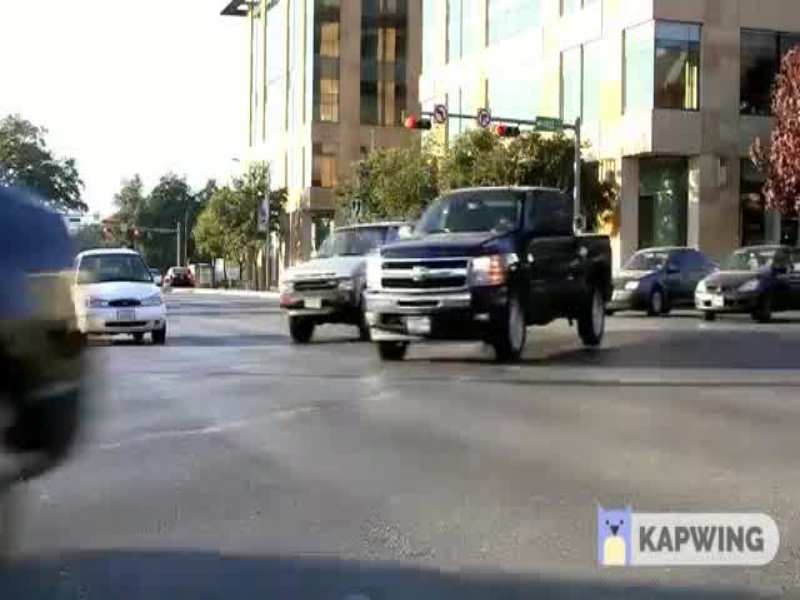car: (70, 250, 188, 361), (695, 236, 800, 323)
truck: (369, 184, 619, 380), (274, 216, 371, 353)
